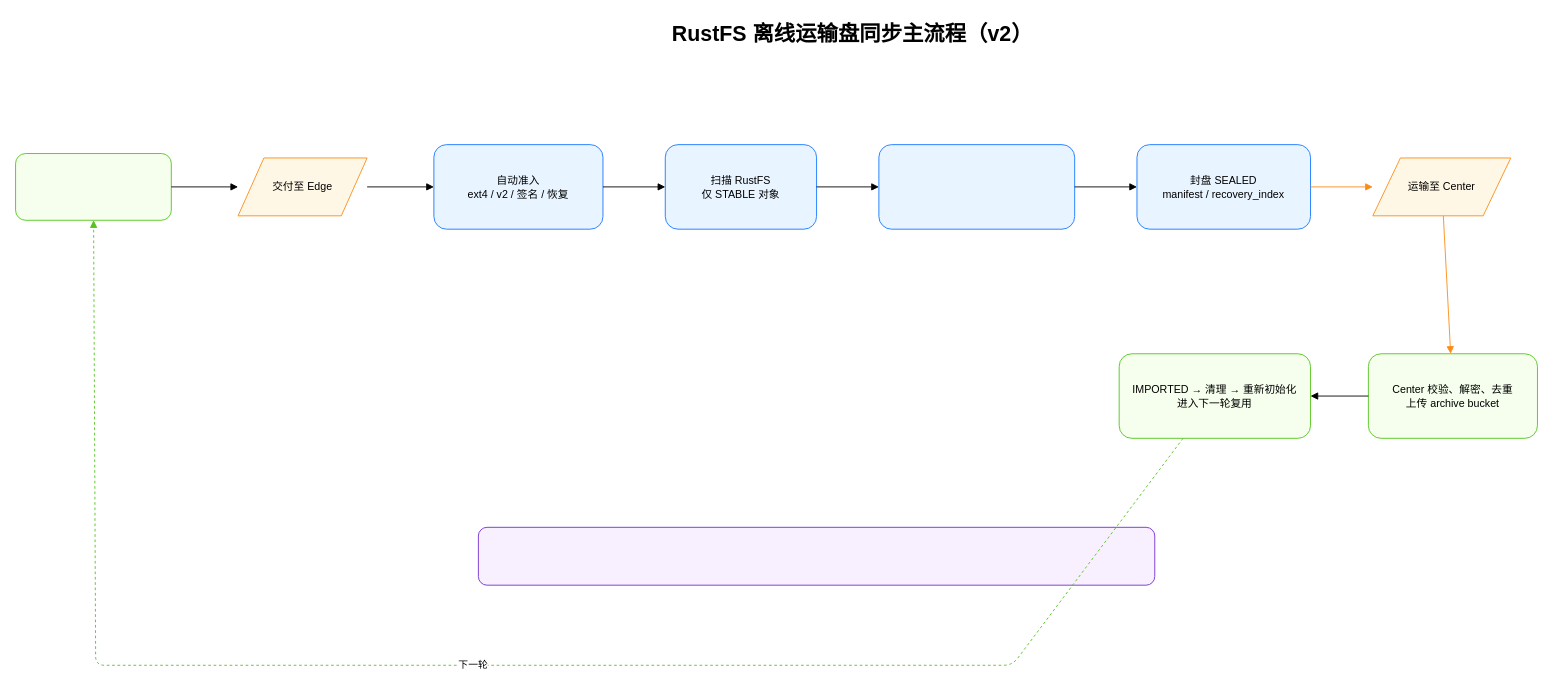
This 1553x688 diagram has some shape labels left out. Here are the shapes that lost their labels. From the top down, the centre of each, then its label:
At point (93, 186): "Center 初始化 INITIALIZED".
At point (976, 186): "分配 + 并行流式加密写盘 PACK / FRAMES".
At point (816, 555): "全程：HTTP 首次恢复 + 本端 WebSocket 实时进度；对象数据仅通过运输盘离线交接".
